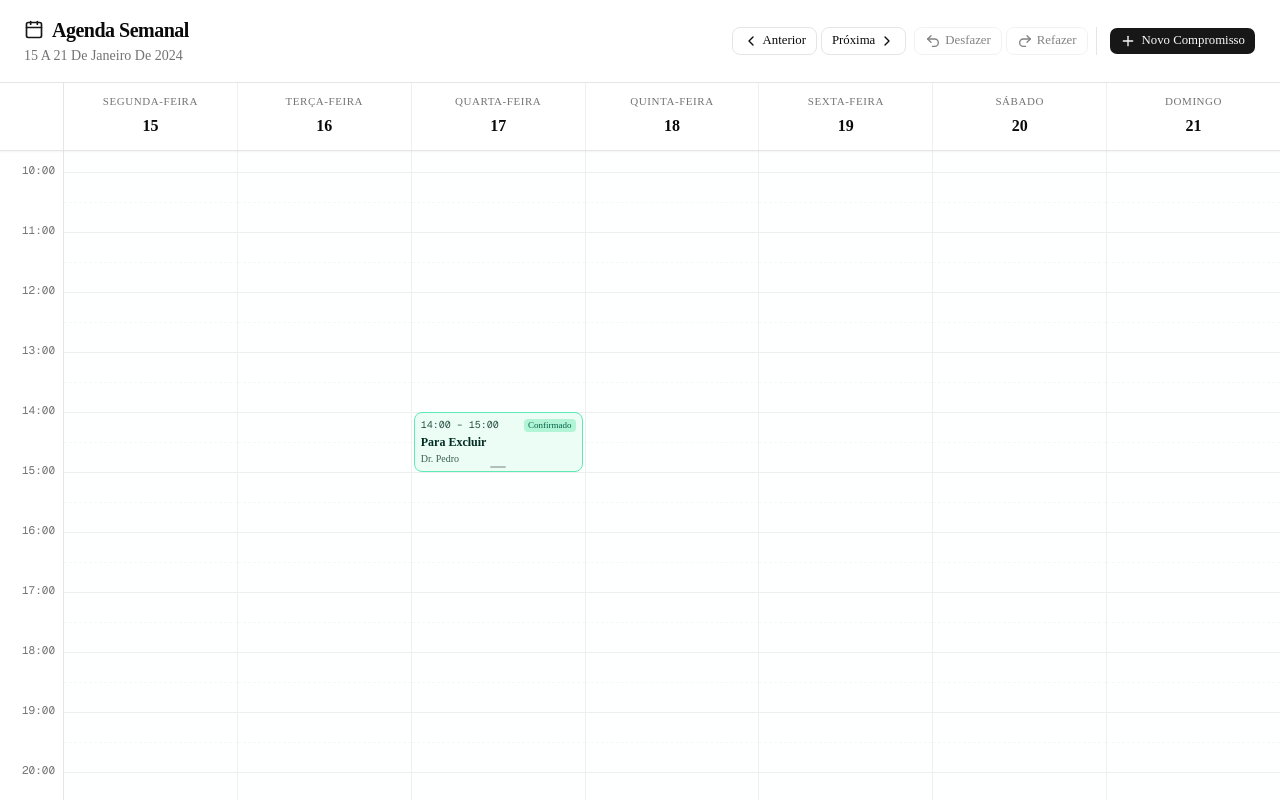
Test: Appointment CRUD & Selection Integration › deletes an appointment with confirmation, clears selection, and creates one history entry
This screenshot has width=1280, height=800.
(page scrolled)
# Select appointment
Click the button "14:00 – 15:00 Confirmado Para Excluir Dr. Pedro" at (498,442), box [414, 412, 583, 472]
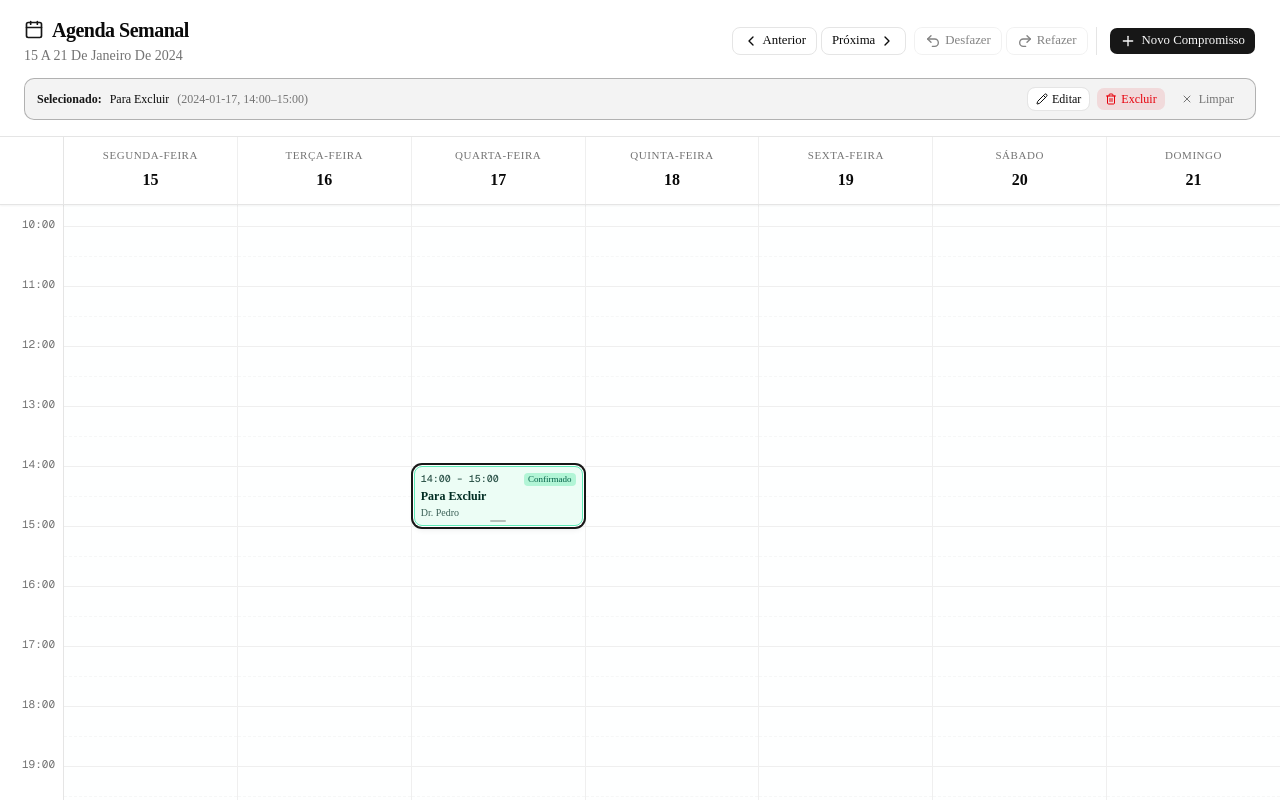
# Click "Excluir" in header
Click the button with aria-label "Excluir compromisso Para Excluir" at (1131,99), box [1096, 87, 1166, 111]
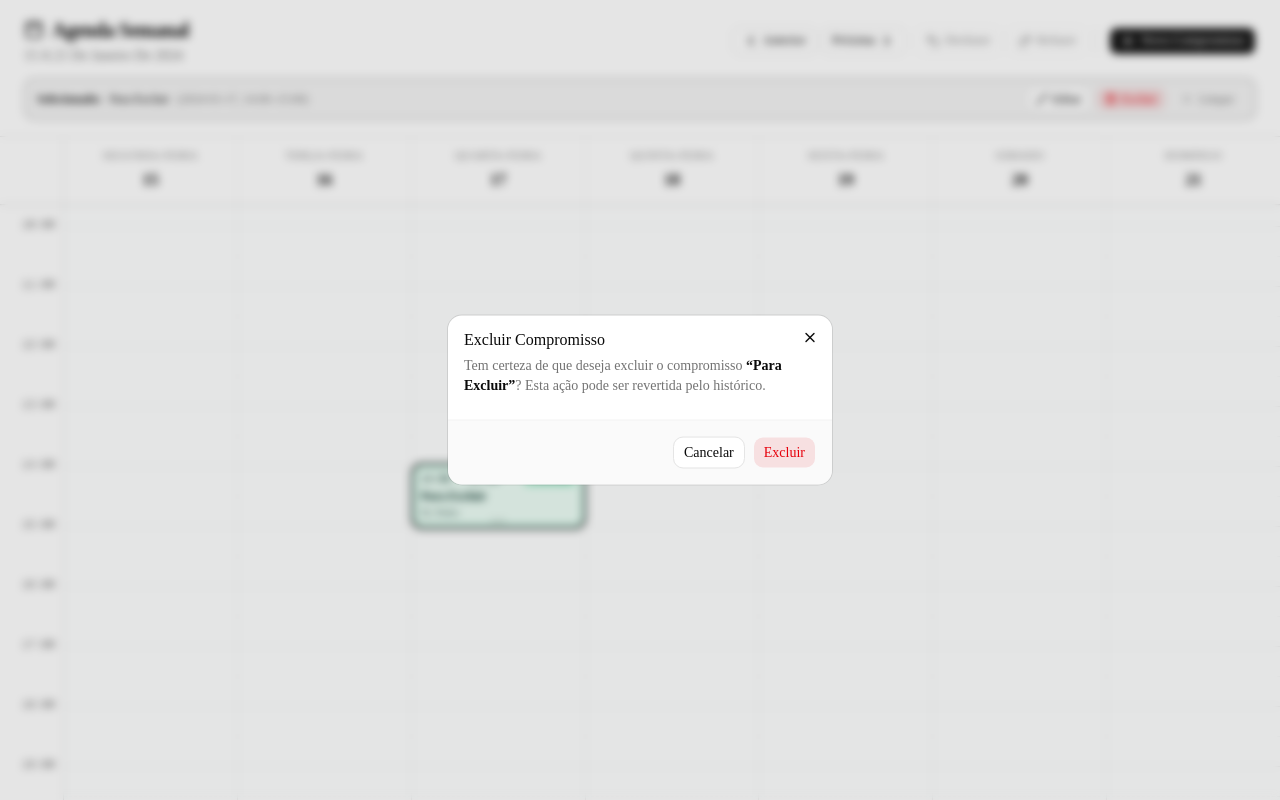
Result: the heading "Excluir Compromisso" is shown at [464, 330, 605, 348]
Result: the text "Tem certeza de que deseja excluir o compromisso" is shown at [464, 358, 742, 372]
# Confirm deletion
Click the button with aria-label "Confirmar exclusão" at (784,452), box [753, 436, 816, 468]
(page scrolled)
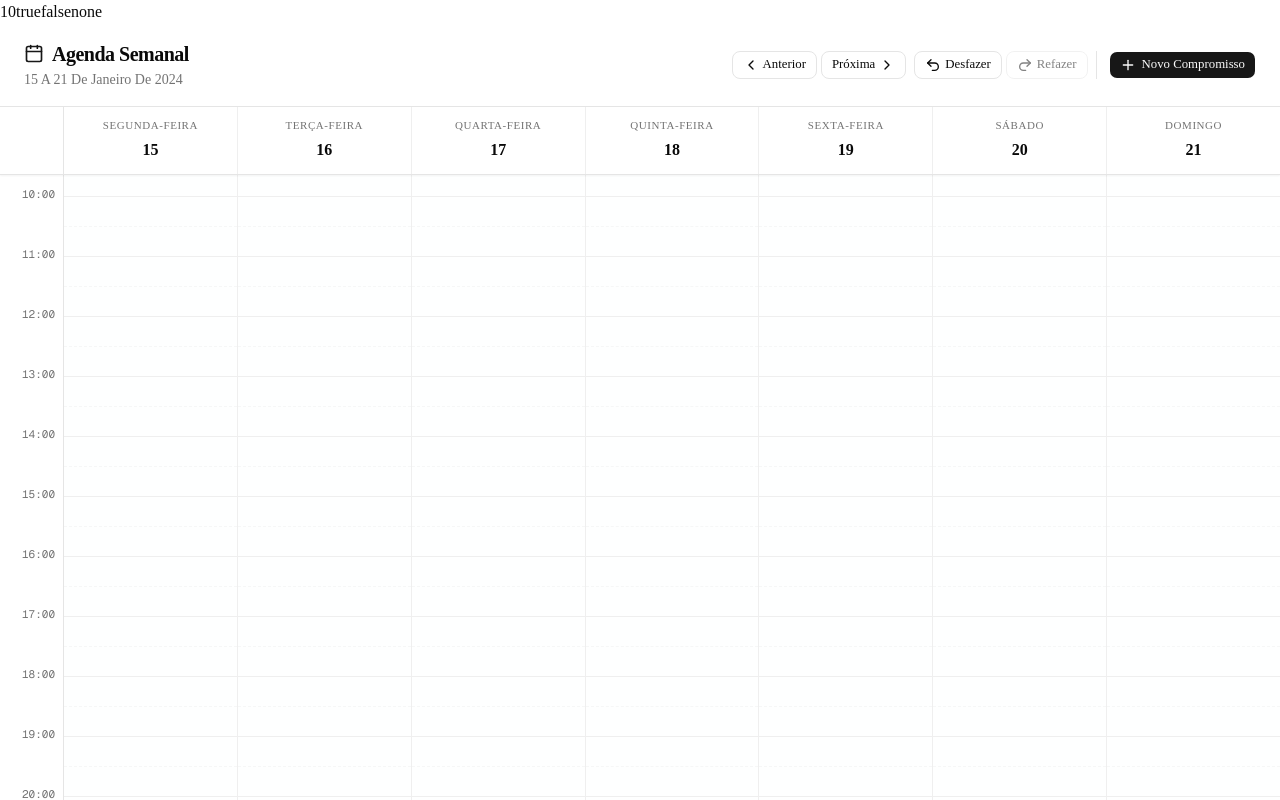
Result: the text "Para Excluir" is gone
Result: the text with test id "selected-id" reads "none" at [71, 3, 102, 20]
Result: the text with test id "past-count" reads "1" at [0, 3, 8, 20]
